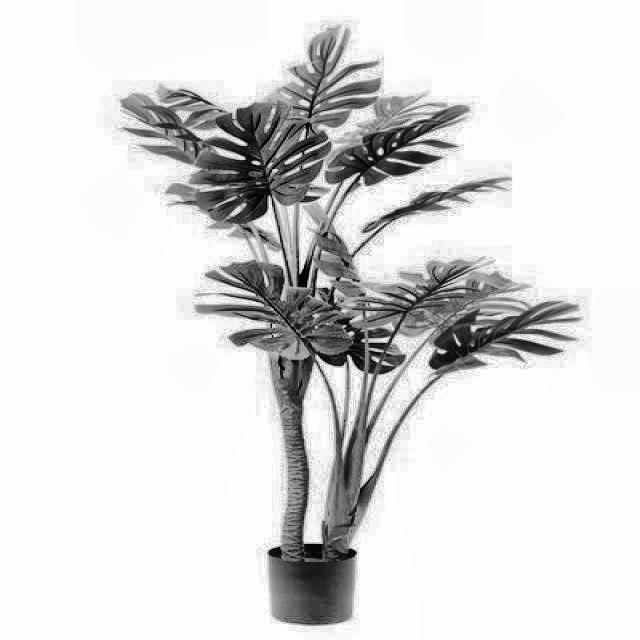plants: (127, 51, 560, 622)
